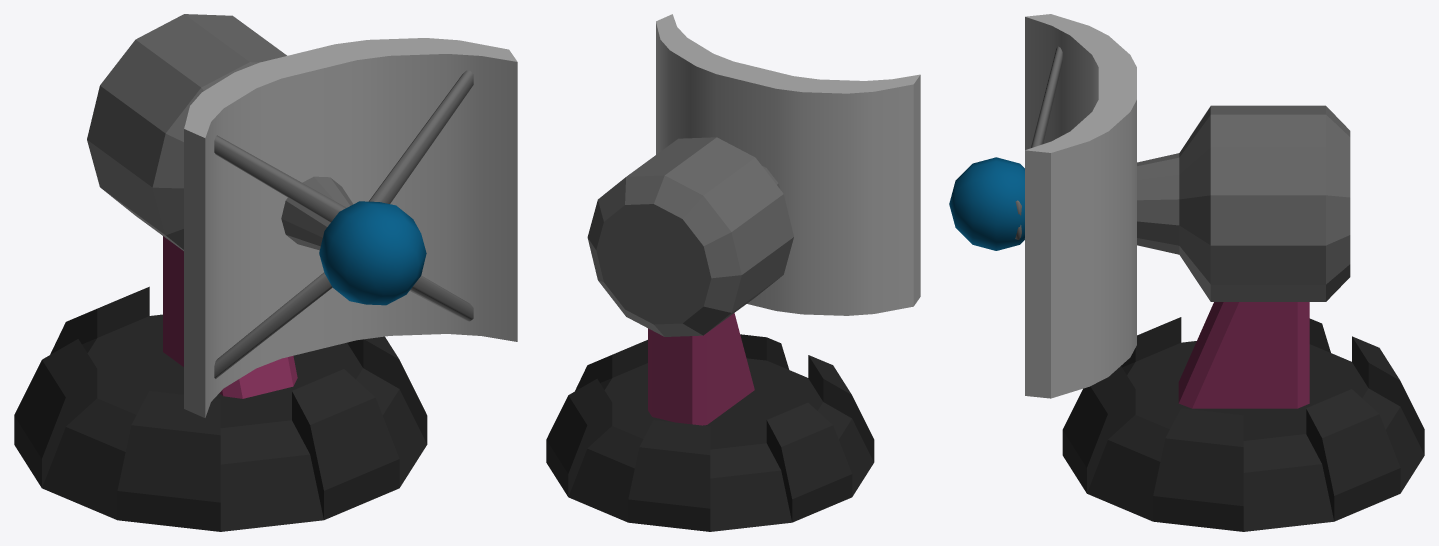
File: sonic.fbx
3 views of the same model, side by side, from view 1: azimuth 30°, elevation 25°; view 2: azimuth 150°, elevation 25°; view 3: azimuth 270°, elevation 25° (orthographic). The views are drawn at different scales.
Visible parts, largest first — view 1: Turret, Base; view 2: Turret, Base; view 3: Turret, Base.
Boxes of the visible parts, x1,y1,x2,y2 form: Turret: [87, 14, 517, 417]; Base: [14, 286, 427, 531]; Turret: [587, 14, 920, 425]; Base: [546, 334, 874, 531]; Turret: [949, 14, 1350, 408]; Base: [1062, 317, 1424, 531].
Size of the model in its own units: 68.16 by 78.66 by 89.51.
